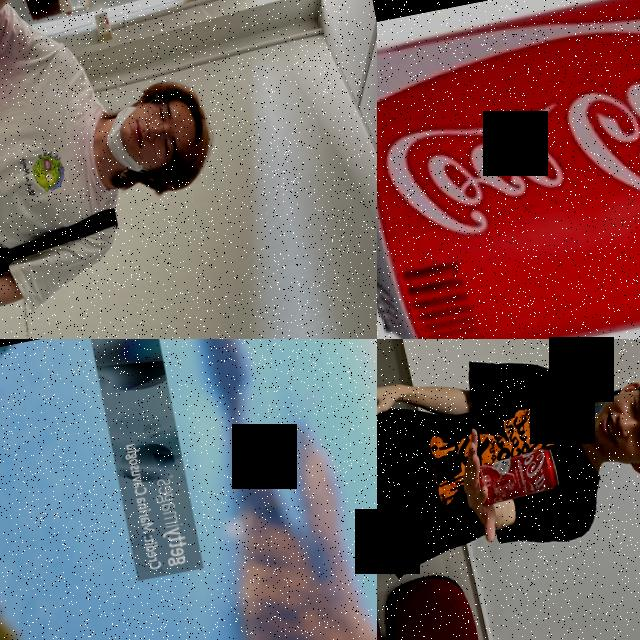can: (377, 0, 640, 339), (471, 445, 564, 508)
cup: (14, 0, 93, 24)
